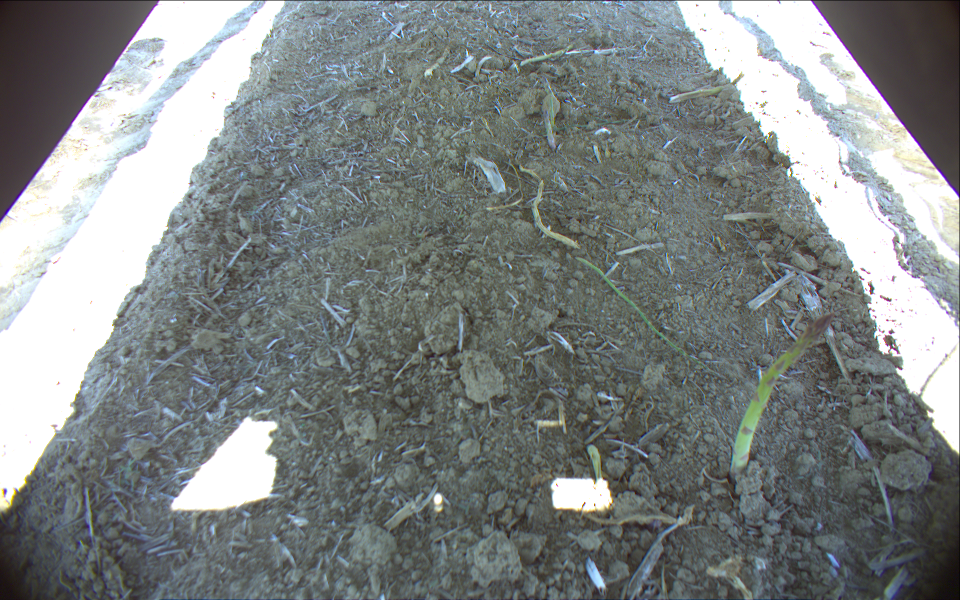aspa: (729, 312, 836, 490)
